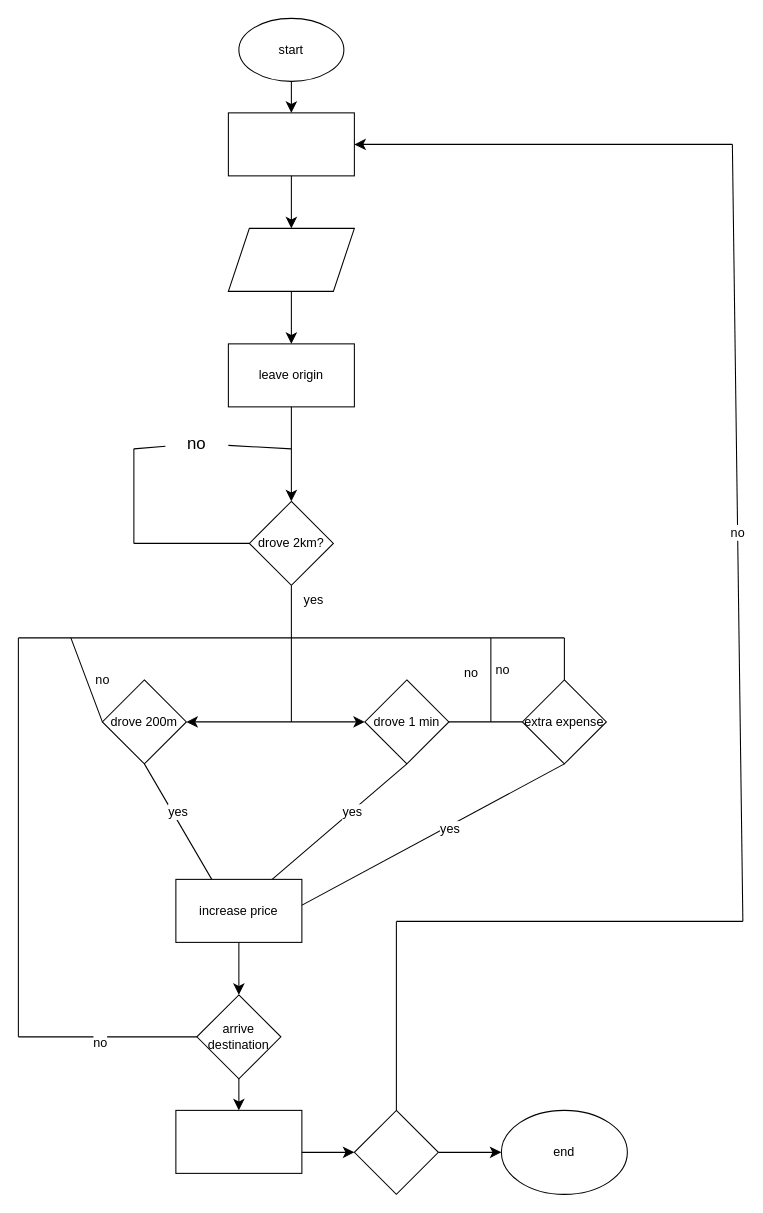
This 763x1213 diagram has some shape labels left out. The box of each missing label's shape, as (x1, y1, x2, y2) in pixels:
finish shift: (353, 1109, 438, 1194)
get destination: (227, 227, 354, 291)
new passenger: (227, 112, 354, 176)
passenger payment: (175, 1109, 302, 1173)
